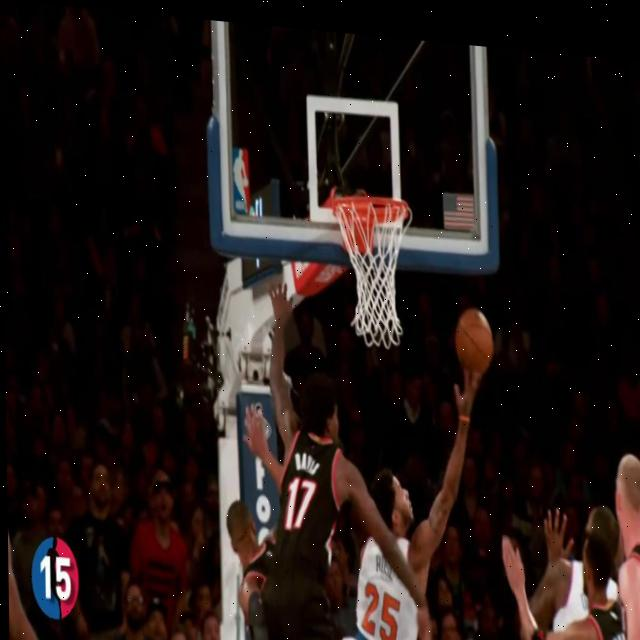basketball: (454, 301, 495, 382)
hoop: (334, 187, 414, 357)
